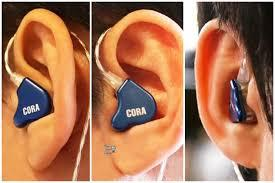earphone: (106, 76, 159, 135), (216, 70, 263, 132), (11, 76, 52, 125)
